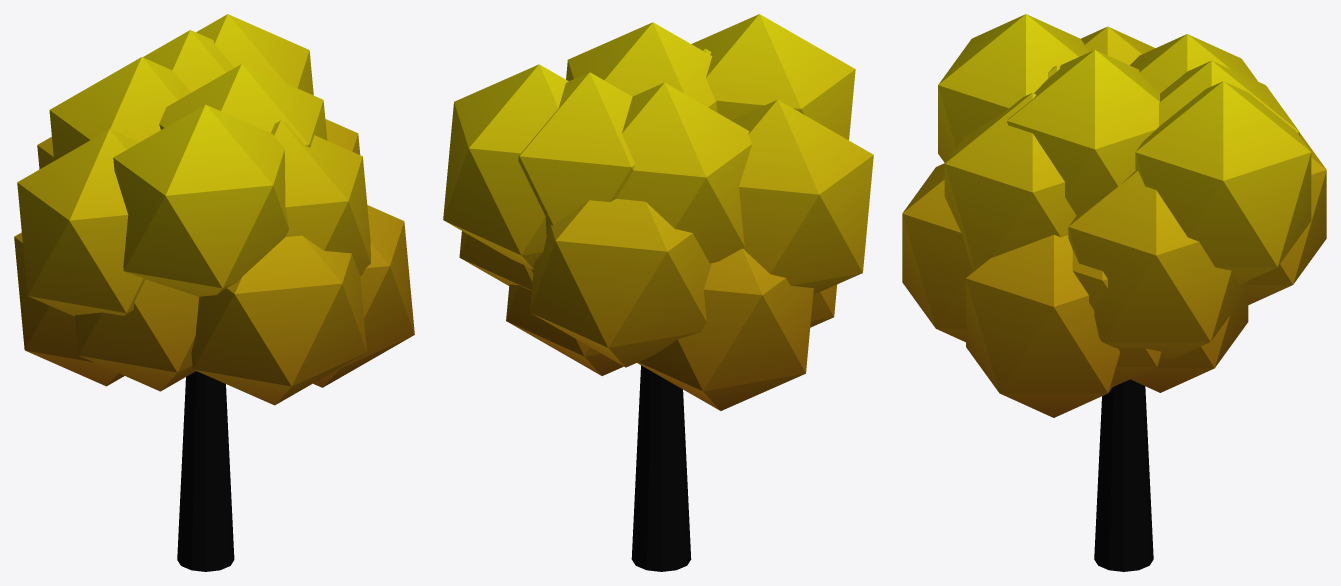
File: tree_broadleaf_lod1.glb
The picture shows the model from 3 angles, left to right: view 1: azimuth 30°, elevation 25°; view 2: azimuth 150°, elevation 25°; view 3: azimuth 270°, elevation 25°; orthographic projection. The views are drawn at different scales.
Parts seen in each view (by area): view 1: leaves_crown.012, leaves_crown.017, leaves_crown.015, tree_trunk, leaves_crown.009, leaves_crown.007, leaves_crown.005, leaves_crown.014, leaves_crown.001, leaves_crown.016, leaves_crown.010, leaves_crown.008 (+1 smaller); view 2: leaves_crown.013, leaves_crown.015, leaves_crown.010, leaves_crown.016, leaves_crown.005, leaves_crown.012, leaves_crown.008, tree_trunk, leaves_crown.001, leaves_crown.003, leaves_crown.011, leaves_crown.007; view 3: leaves_crown.016, leaves_crown.014, leaves_crown.011, leaves_crown.001, leaves_crown.009, leaves_crown.012, tree_trunk, leaves_crown.017, leaves_crown.013, leaves_crown.005, leaves_crown.003, leaves_crown.008 (+2 smaller).
Part boxes in pixels (x1,y1,x2,y2): leaves_crown.012: (113,104,288,296); leaves_crown.017: (191,235,366,405); leaves_crown.015: (17,129,145,316); tree_trunk: (177,371,234,571); leaves_crown.009: (271,120,370,275); leaves_crown.007: (75,279,199,391); leaves_crown.005: (49,57,190,160); leaves_crown.014: (313,205,414,387); leaves_crown.001: (159,64,327,147); leaves_crown.016: (196,14,313,95); leaves_crown.010: (14,232,124,386); leaves_crown.008: (143,30,233,92); leaves_crown.013: (530,198,711,367); leaves_crown.015: (731,99,873,294); leaves_crown.010: (637,248,813,410); leaves_crown.016: (443,64,568,269); leaves_crown.005: (616,82,751,263); leaves_crown.012: (691,14,855,140); leaves_crown.008: (518,72,635,235); tree_trunk: (631,365,691,571); leaves_crown.001: (566,22,717,112); leaves_crown.003: (506,269,623,375); leaves_crown.011: (459,231,533,290); leaves_crown.007: (810,284,837,327); leaves_crown.016: (1135,81,1311,284); leaves_crown.014: (966,235,1121,417); leaves_crown.011: (1068,170,1244,358); leaves_crown.001: (1007,50,1159,215); leaves_crown.009: (944,93,1076,269); leaves_crown.012: (938,14,1089,162); tree_trunk: (1094,379,1153,571); leaves_crown.017: (902,163,971,342); leaves_crown.013: (1247,133,1326,304); leaves_crown.005: (1130,34,1257,93); leaves_crown.003: (1130,281,1248,392); leaves_crown.008: (1159,60,1299,135).
Size of the model in its own units: 3.29 by 4.45 by 3.28.
